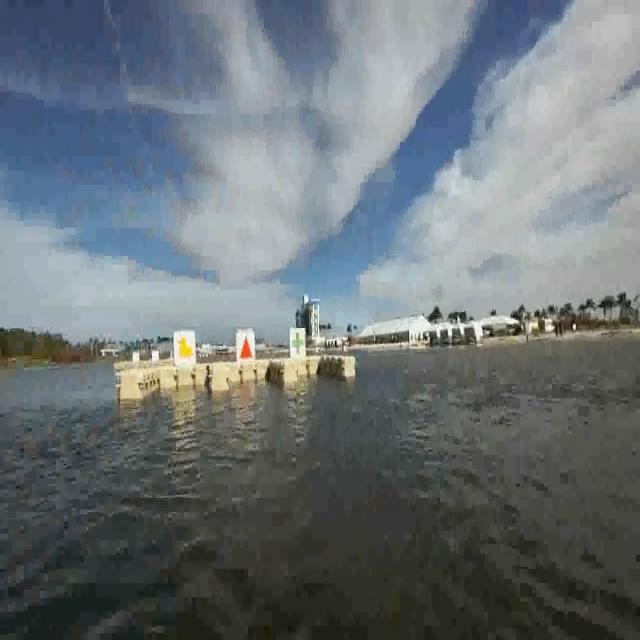blue-cross: (290, 330, 306, 357)
red-dot: (237, 331, 253, 364)
yellow-duck: (176, 332, 195, 363)
